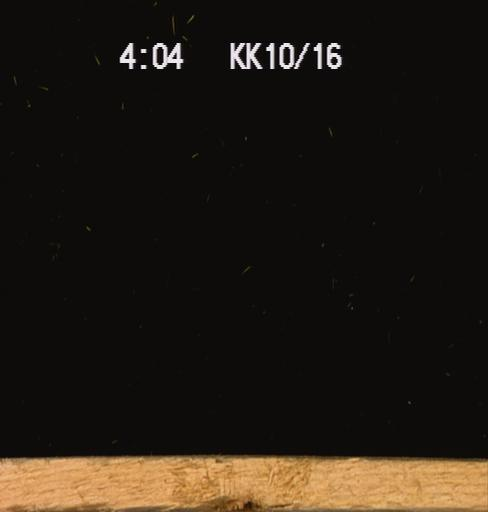wave: (120, 497, 303, 511)
